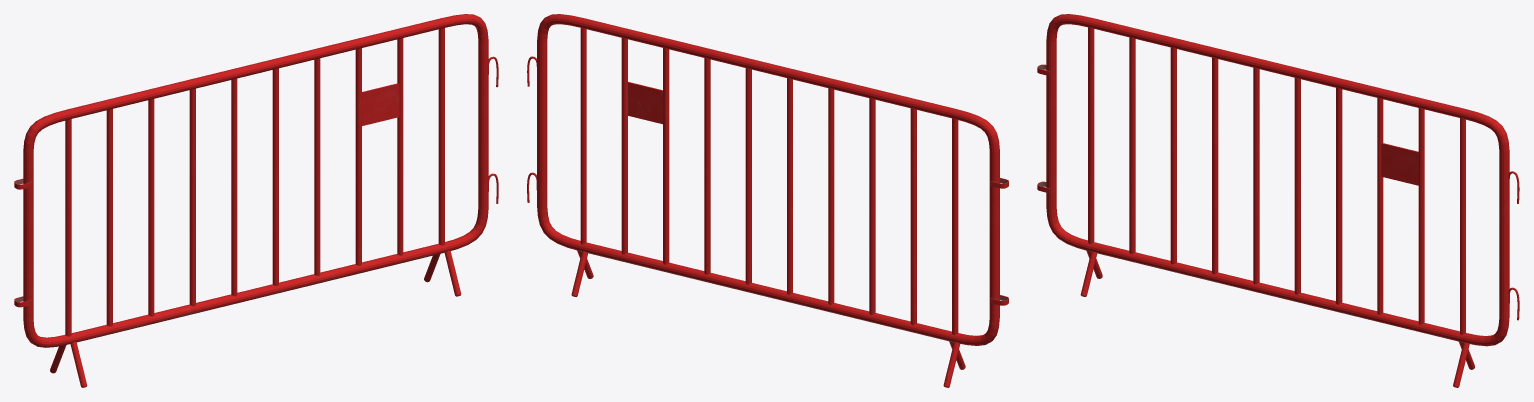
Rendered from strAsset_06.glb.
The picture shows the model from 3 angles, left to right: view 1: azimuth 30°, elevation 25°; view 2: azimuth 150°, elevation 25°; view 3: azimuth 330°, elevation 25°; orthographic projection.
Visible parts, largest first — view 1: geometry_0; view 2: geometry_0; view 3: geometry_0.
Boxes of the visible parts, left/top/right/bottom form: geometry_0: left=14, top=14, right=498, bottom=387; geometry_0: left=527, top=14, right=1008, bottom=387; geometry_0: left=1037, top=14, right=1519, bottom=387.
Bounding box in the file's own units: 0.3368 × 0.1803 × 0.0319.
Materials: 1 (1 with a texture image).
